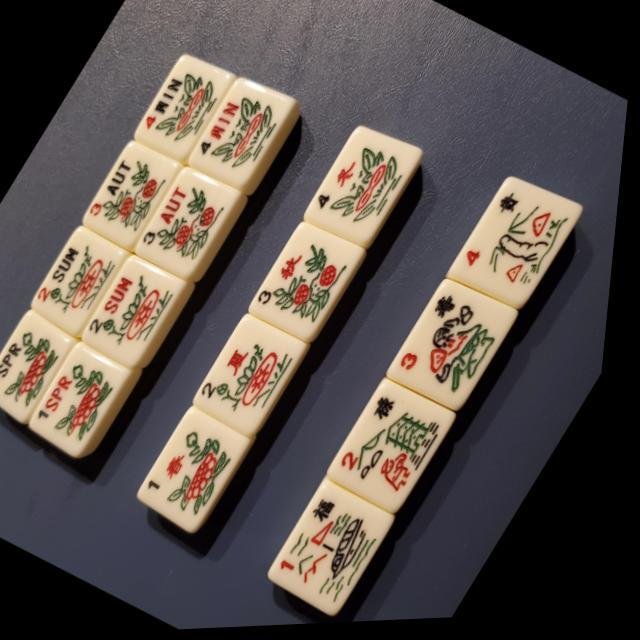bs1: (142, 405, 260, 530)
bs2: (196, 312, 318, 442)
bs3: (252, 220, 371, 346)
bs4: (306, 127, 424, 250)
